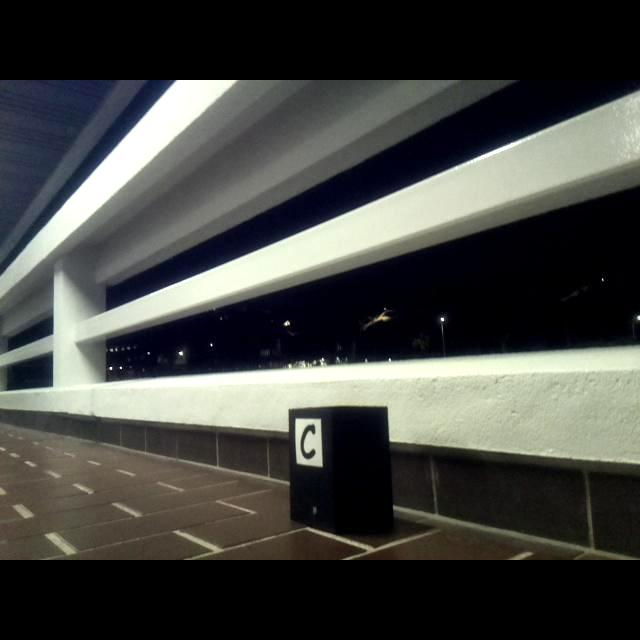C: (300, 424, 317, 460)
